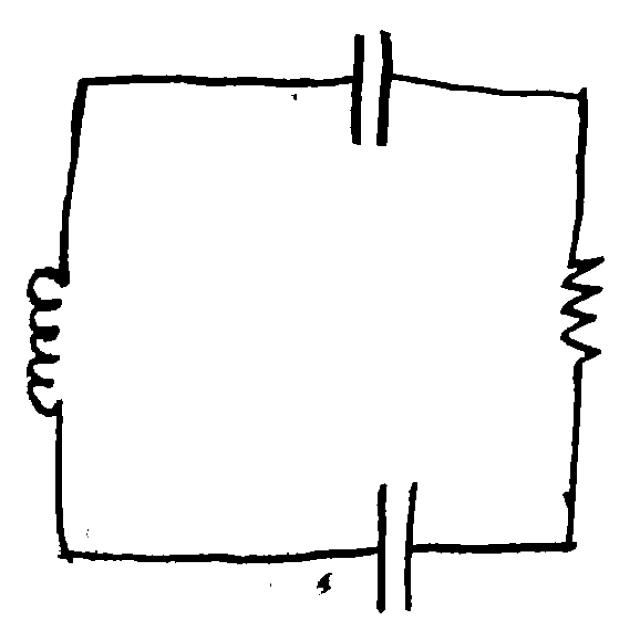capacitor: (326, 13, 423, 161), (354, 465, 448, 617)
inductor: (16, 251, 85, 437)
resistor: (539, 237, 621, 378)
